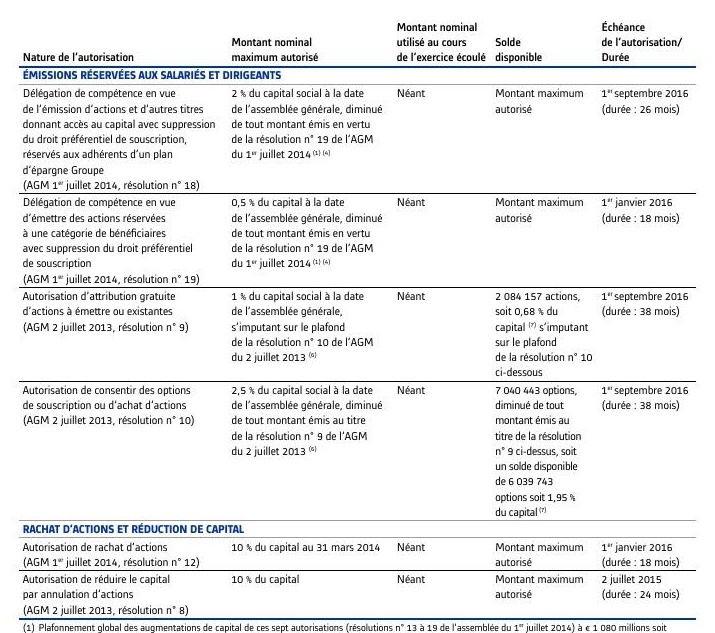table: (0, 0, 715, 633)
